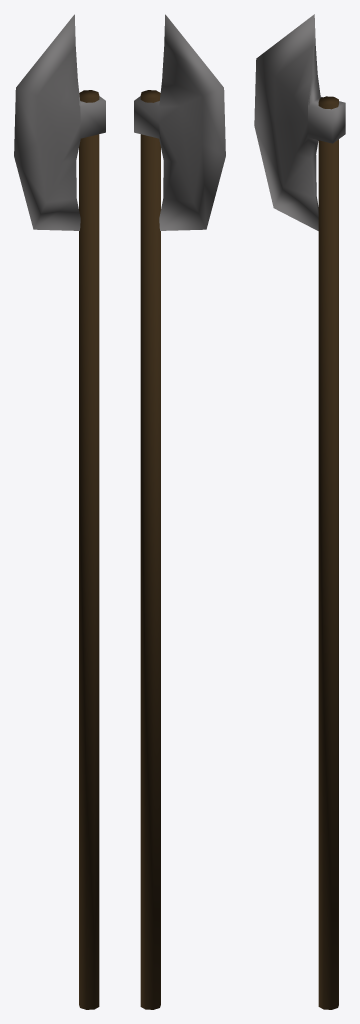
The model's file is bardiche-a.glb.
3 views of the same model, side by side, from view 1: azimuth 30°, elevation 25°; view 2: azimuth 150°, elevation 25°; view 3: azimuth 330°, elevation 25° (orthographic).
Visible parts, largest first — view 1: Bardiche; view 2: Bardiche; view 3: Bardiche.
Boxes of the visible parts, x1,y1,x2,y2 form: Bardiche: [14, 14, 105, 1009]; Bardiche: [134, 14, 225, 1009]; Bardiche: [254, 14, 345, 1009].
Bounding box in the file's own units: 0.1602 × 1.78 × 0.0421.
